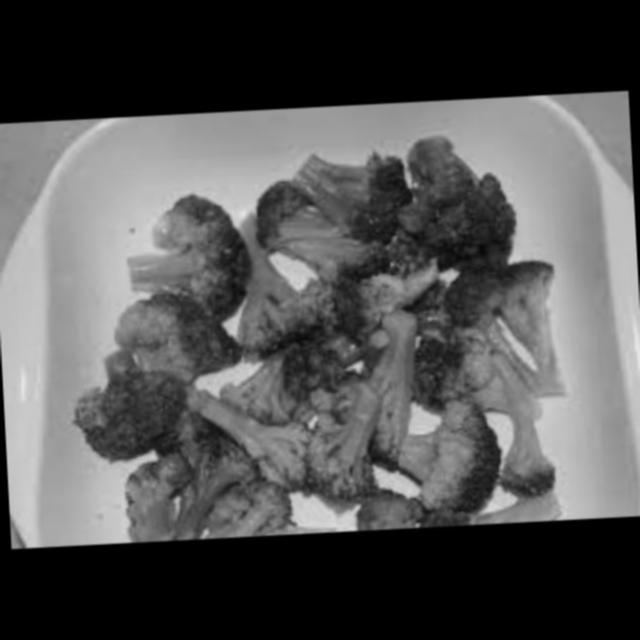broccoli: (48, 136, 570, 545)
